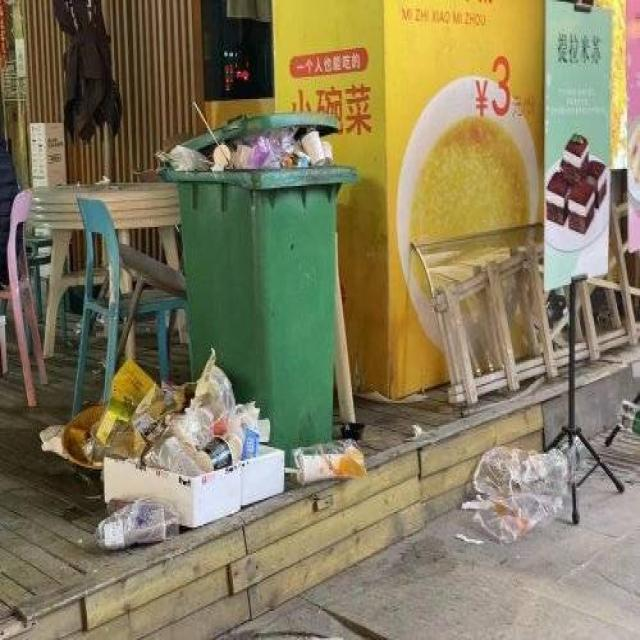garbage: (41, 348, 367, 550)
overflow: (154, 113, 356, 464)
